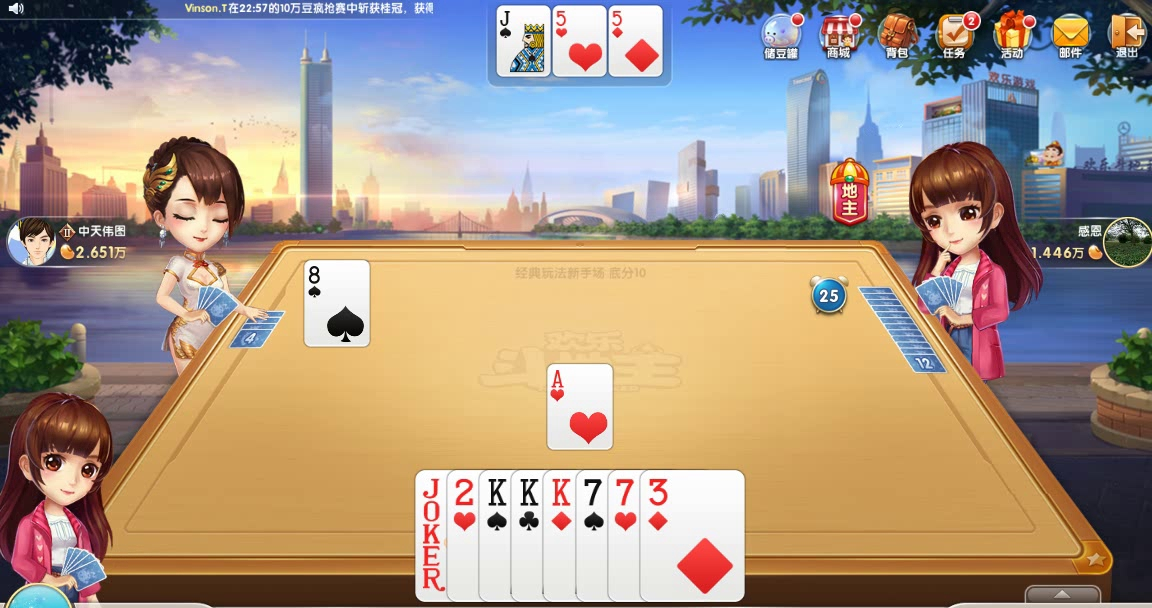11~4: (497, 5, 549, 76)
13~1: (542, 467, 650, 602)
13~2: (509, 467, 617, 602)
13~4: (478, 467, 586, 602)
14~3: (546, 362, 612, 449)
15~3: (446, 469, 554, 604)
18~4: (414, 469, 522, 604)
3~1: (638, 467, 746, 602)
5~1: (610, 5, 662, 76)
5~3: (554, 5, 606, 76)
7~3: (608, 467, 716, 602)
7~4: (576, 467, 684, 602)
8~4: (303, 260, 372, 346)
